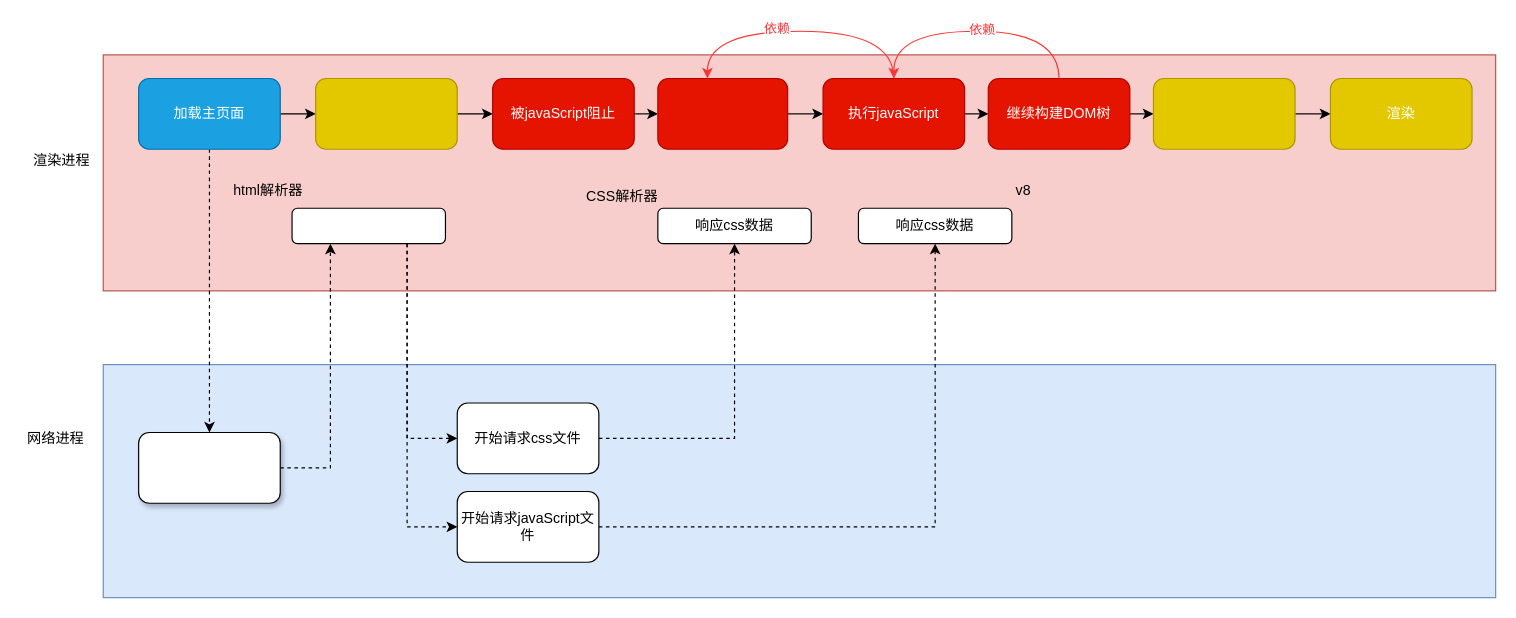
This 1516x618 diagram has some shape labels left out. Here are the shapes that lost their labels. From the top down, the centre of each, then its label:
At [385,113]: "构建DOM".
At [722,113]: "构建CSSOM".
At [1223,113]: "构建布局树".
At [368,225]: "响应html数据".
At [210,469]: "开始请求html文件".
